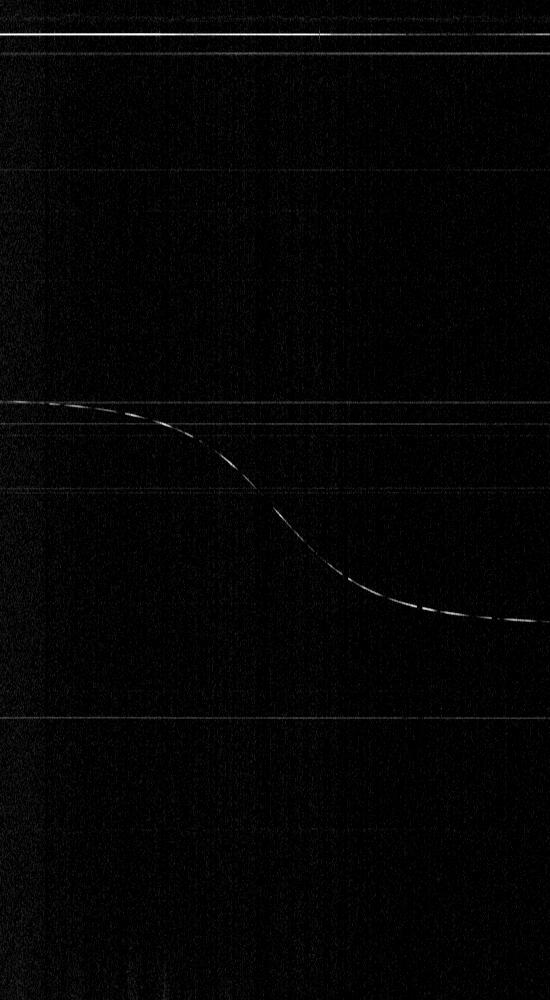signal: (0, 0, 549, 999)
